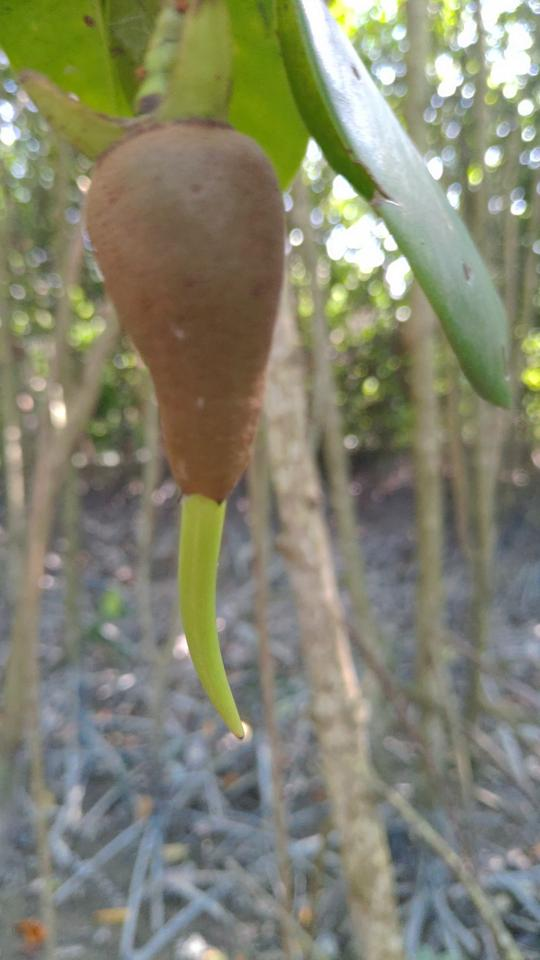mentah: (60, 86, 300, 766)
